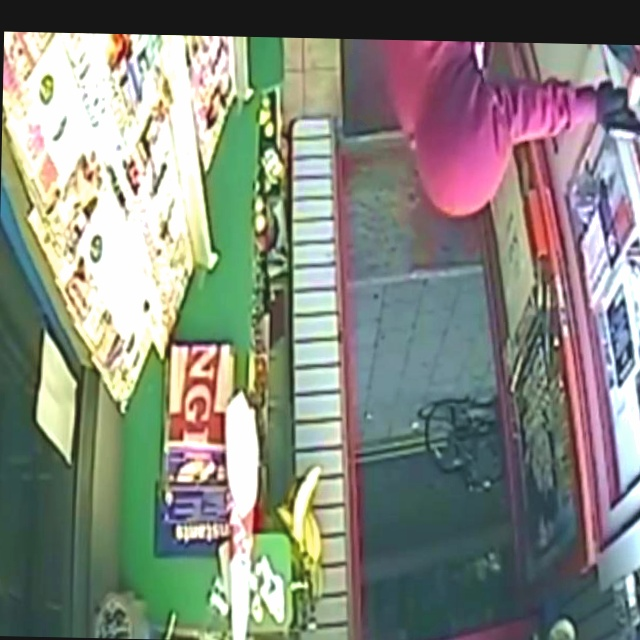gun: (593, 92, 640, 149)
